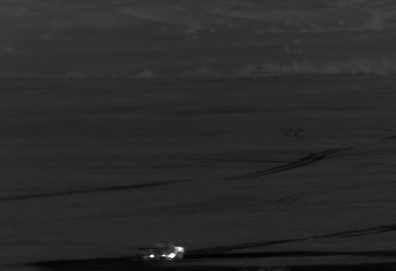Target: (151, 247, 184, 258)
